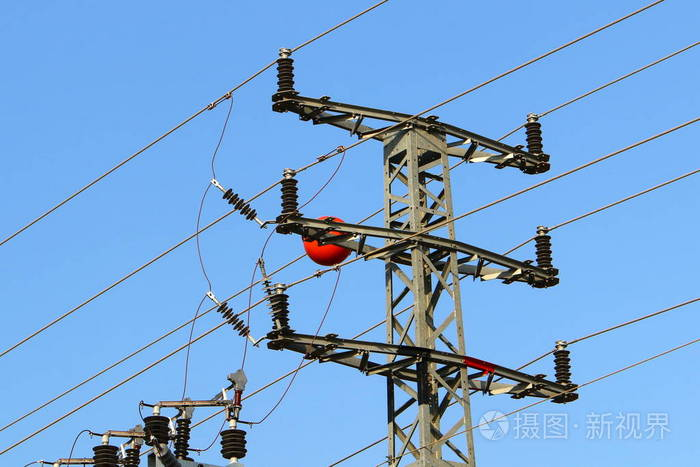insulator: (215, 300, 252, 338), (221, 186, 256, 219)
